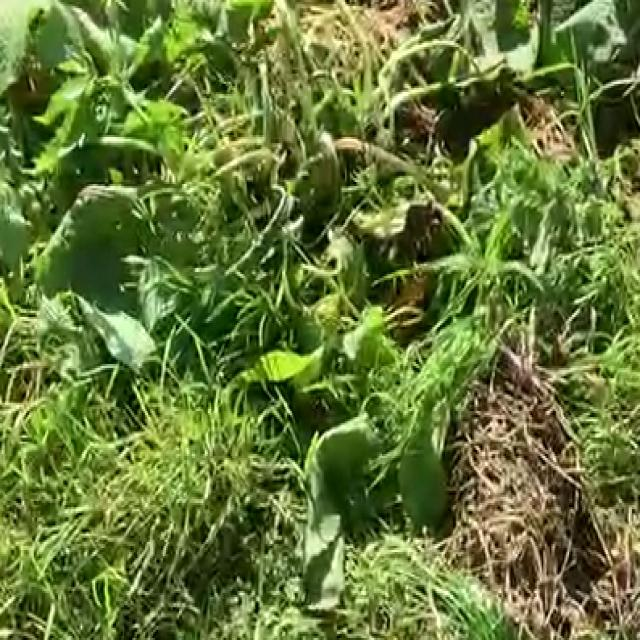organic waste: (222, 176, 500, 525), (32, 67, 305, 336), (427, 0, 640, 149)
